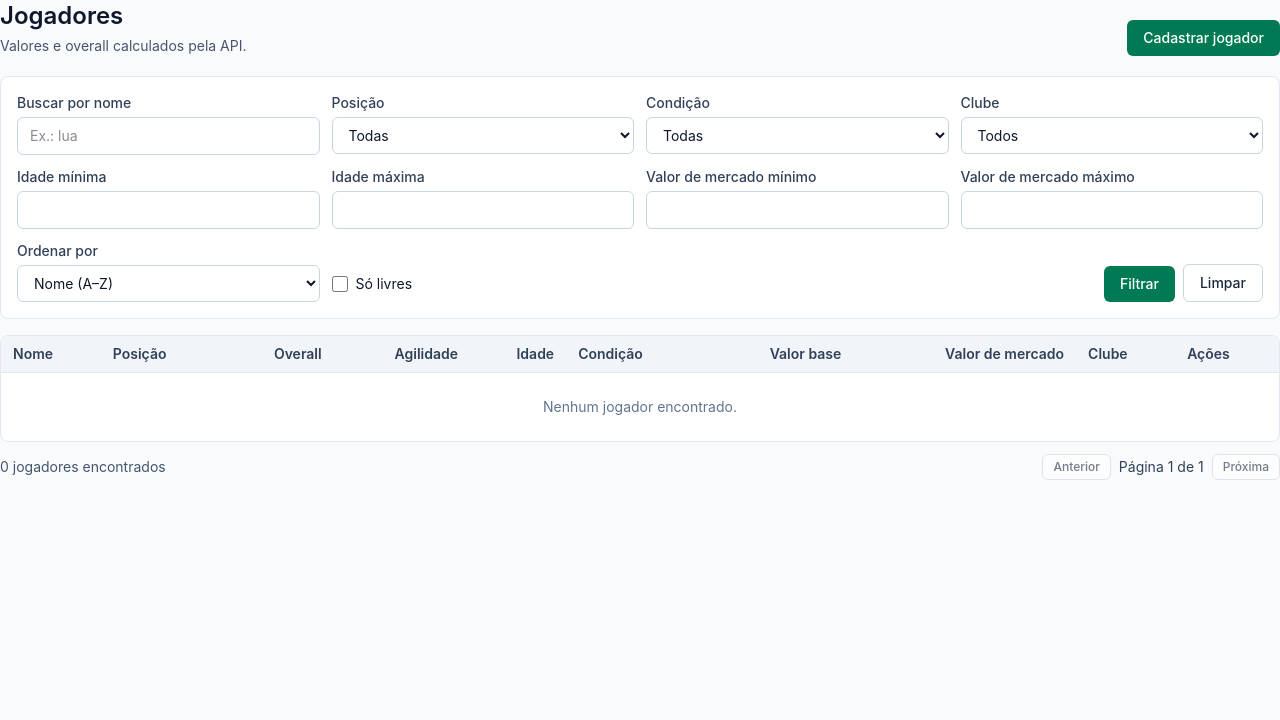
it: PlayersPage › valida o cadastro antes de enviar, com a mensagem junto ao campo
The width and height of the screenshot is (1280, 720).
Click the button "Cadastrar jogador" at (1204, 38), box [1127, 20, 1279, 56]
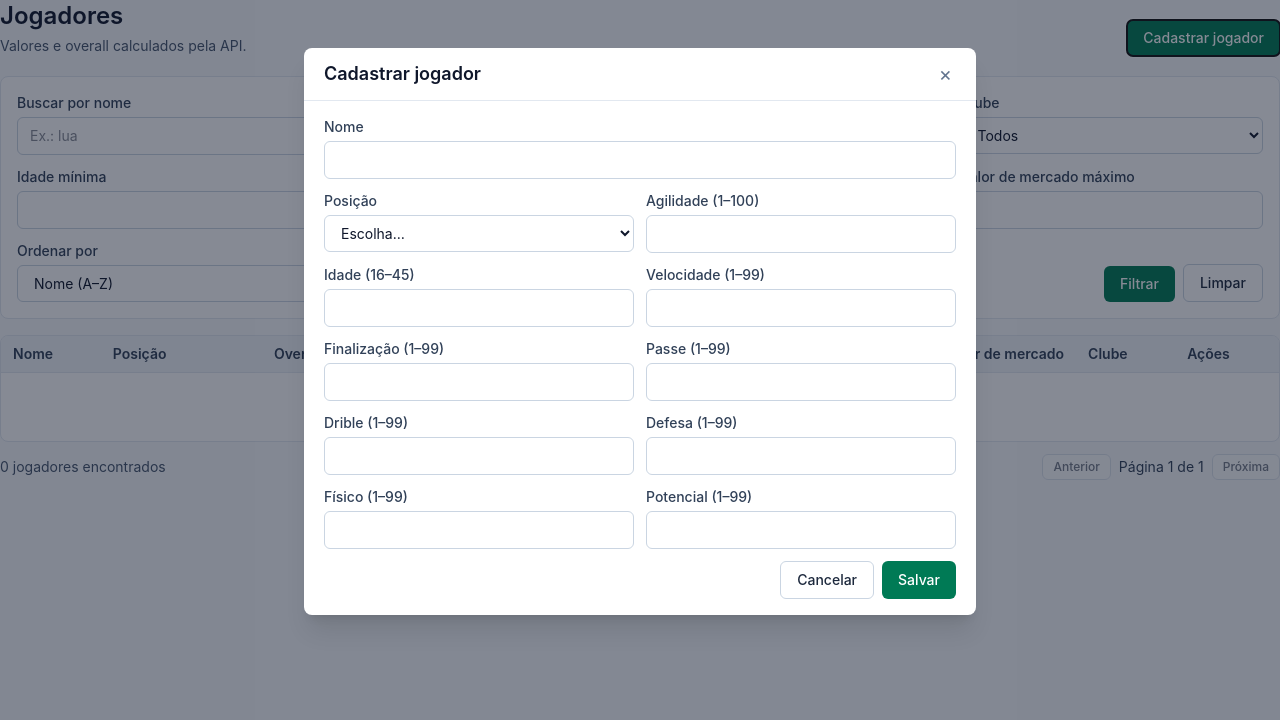
Type "Al" into the field labelled "Nome" at (640, 160), box [324, 141, 956, 179]
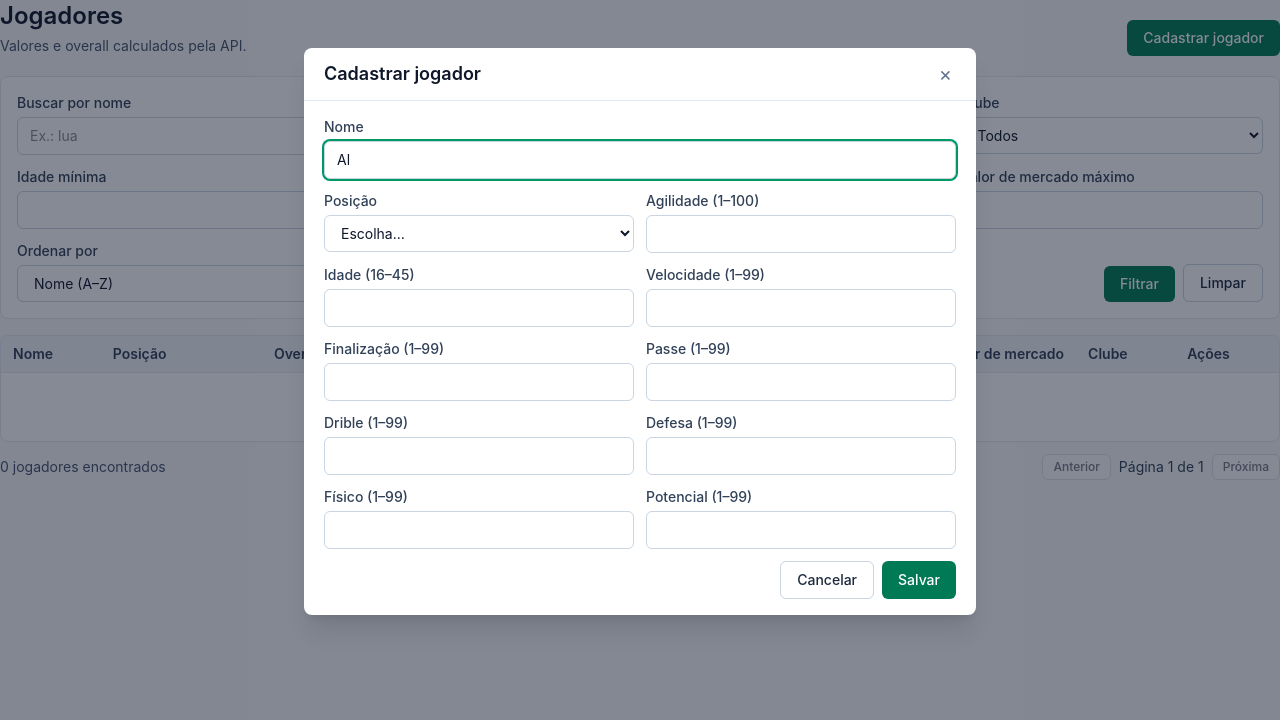
Type "15" into the number field labelled "Idade (16–45)" at (479, 308), box [324, 289, 634, 327]
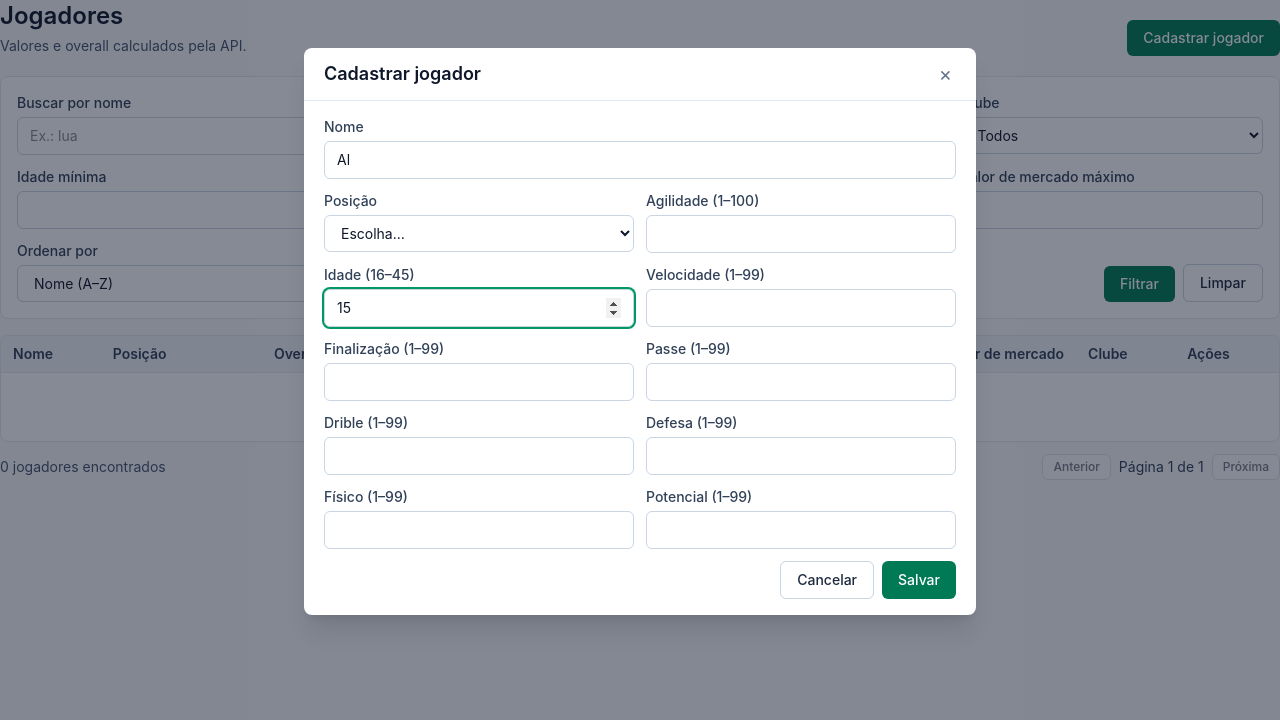
Click the button "Salvar" at (919, 580), box [882, 561, 956, 599]
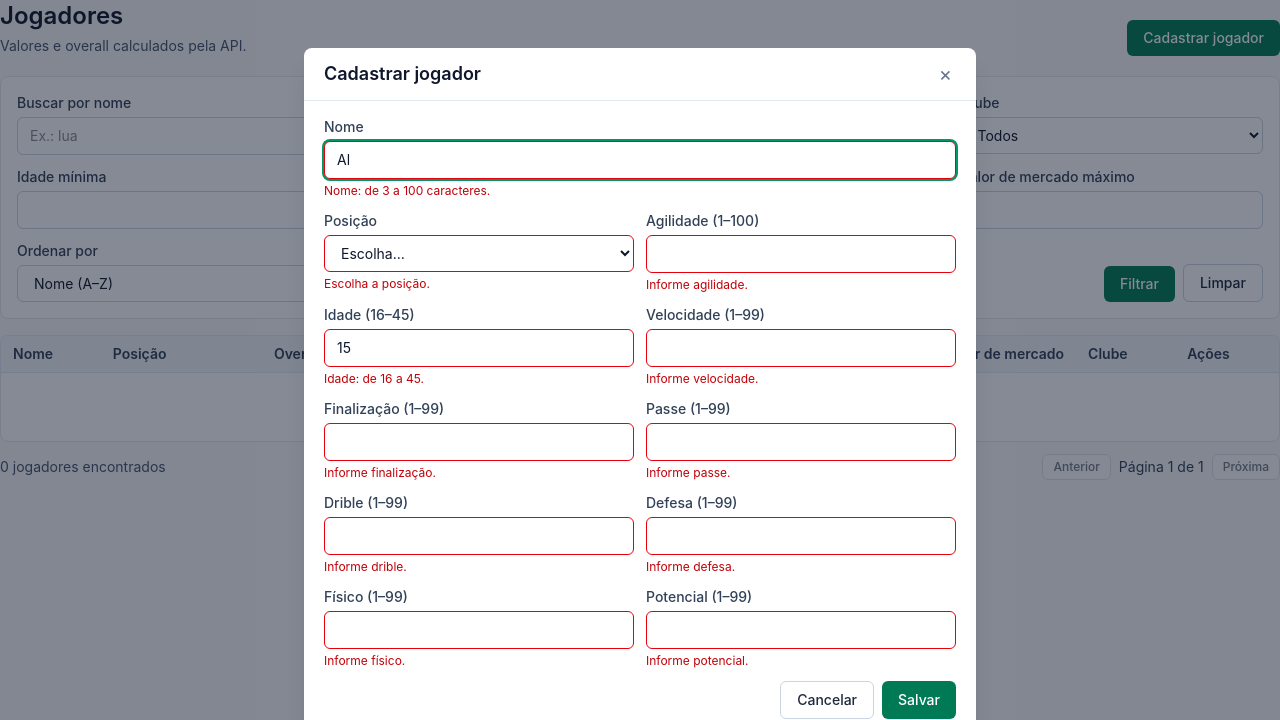
Expected: the text "Nome: de 3 a 100 caracteres." is shown, [324, 183, 490, 198]
Expected: the text "Idade: de 16 a 45." is shown, [324, 371, 424, 386]
